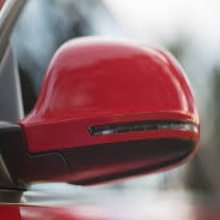no damage: (1, 1, 218, 220)
